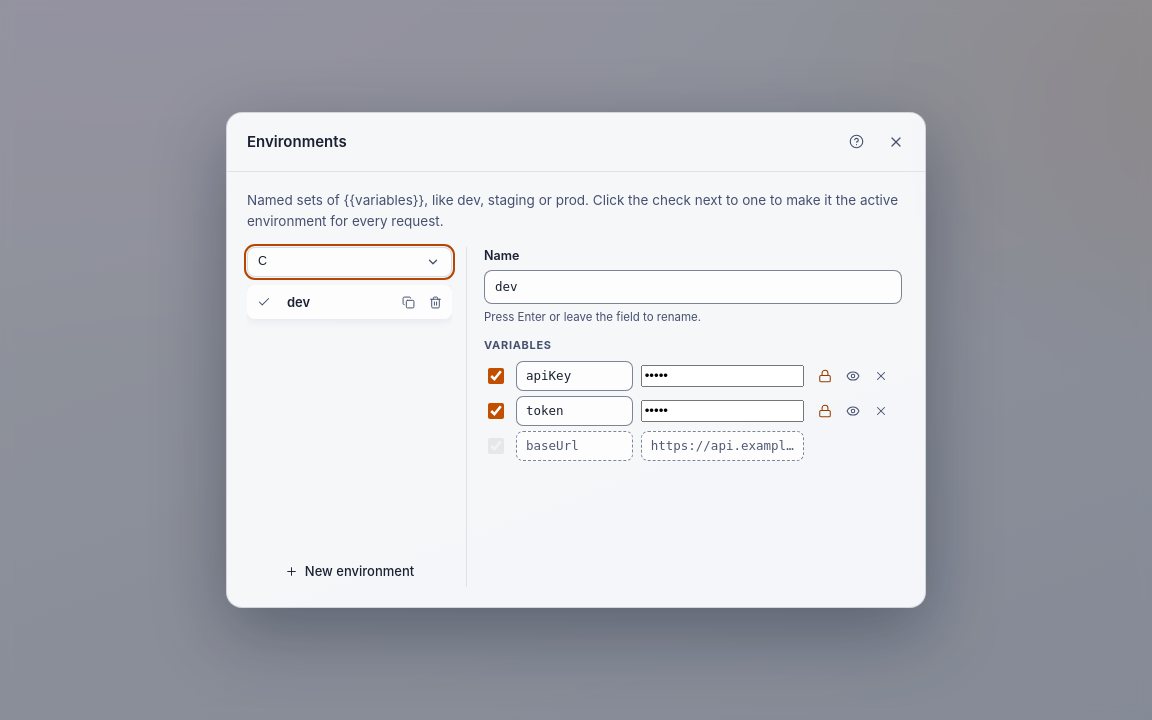
Test: environment secrets › a secret below a revealed row stays hidden when that row is removed
Click the button named "Reveal variable 1 value": (853, 376) [840,363,866,389]
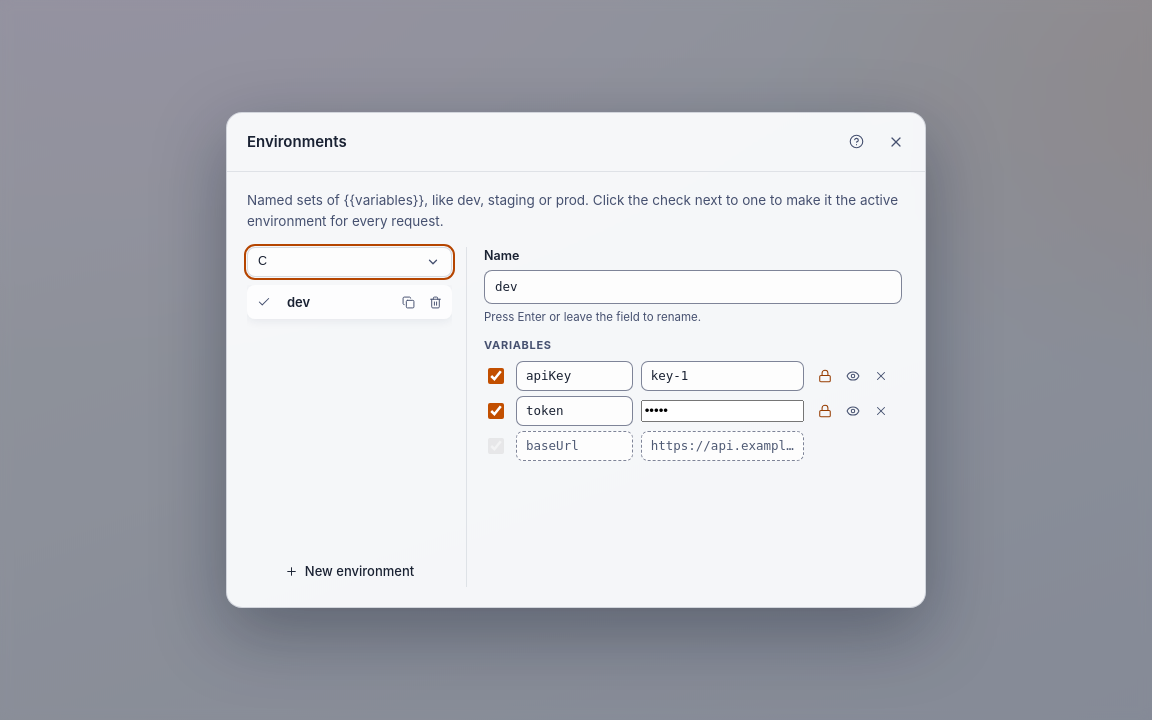
Click the button named "Remove variable 1 (apiKey)": (881, 376) [868,363,894,389]
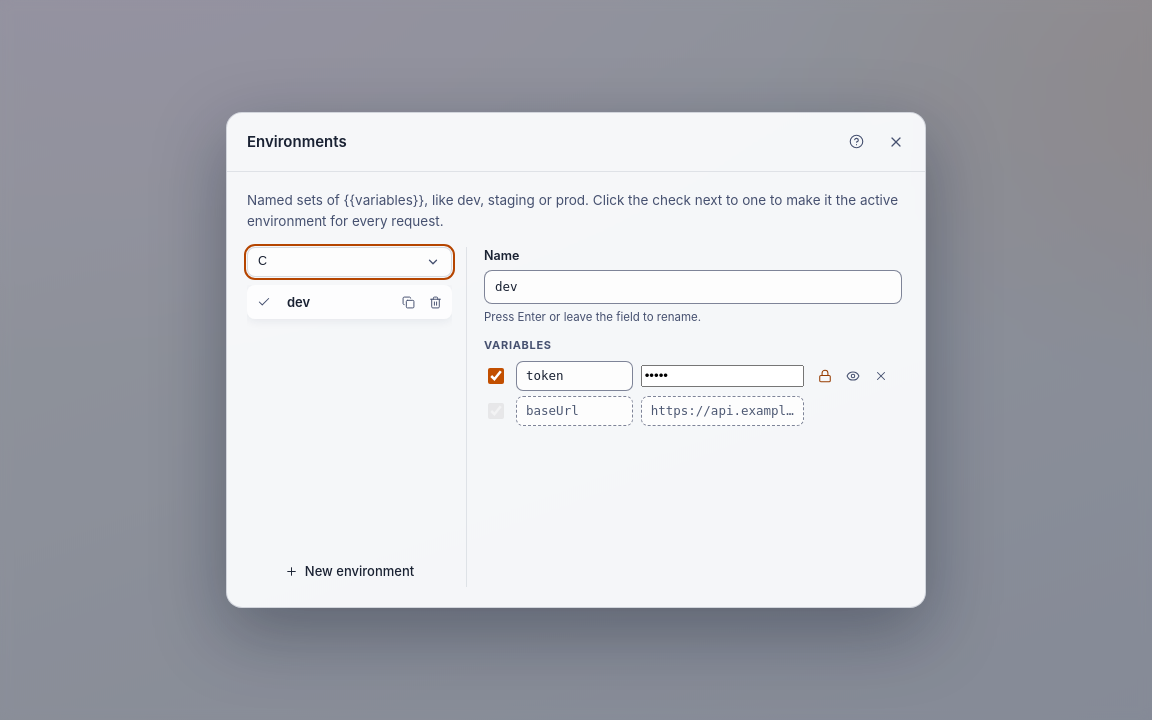
Expected: the password field named "Variable 1 value (secret)" holds "tok-2", [641,365,804,387]
